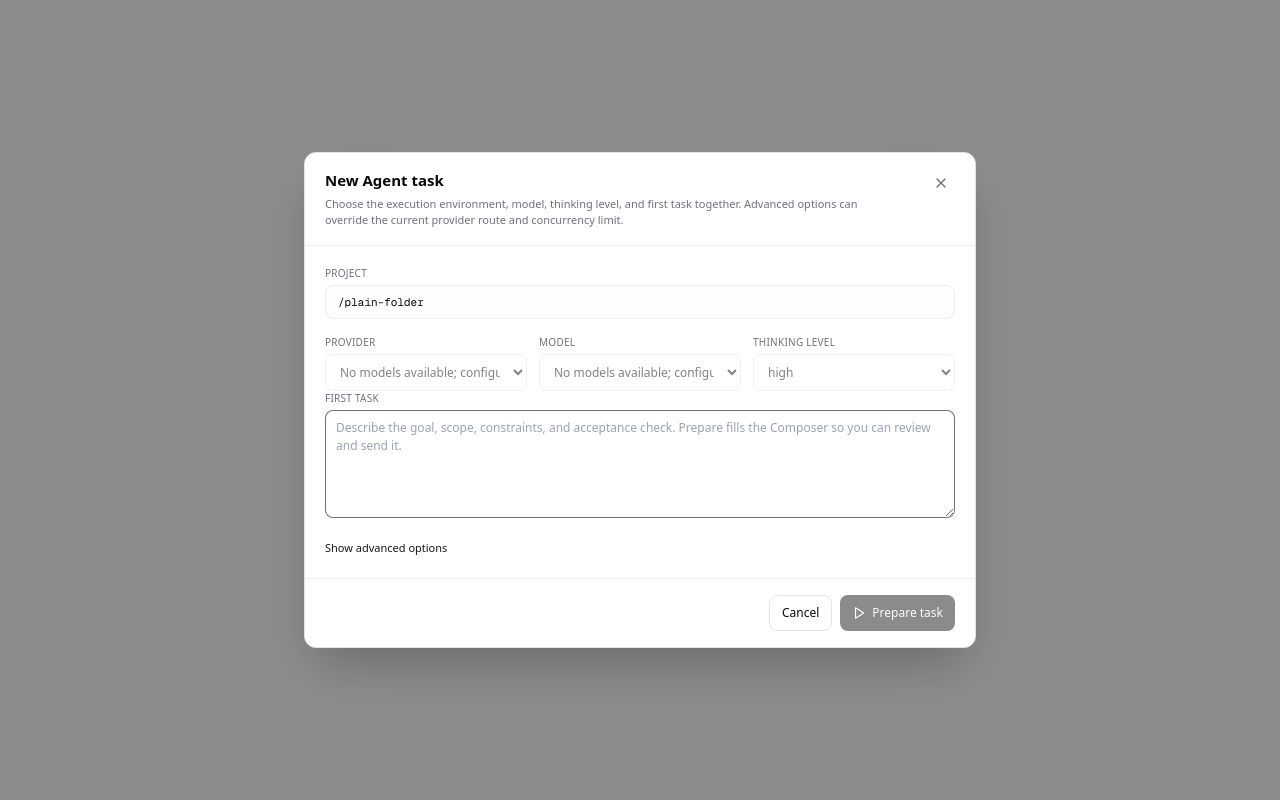
Test: NewTaskDialog › disables Worktree when the project is not a Git repository
What coordinates should you click on to do the following:
click the button "Show advanced options"
I would click on:
 (386, 548)
Its box is [325,540,447,556].
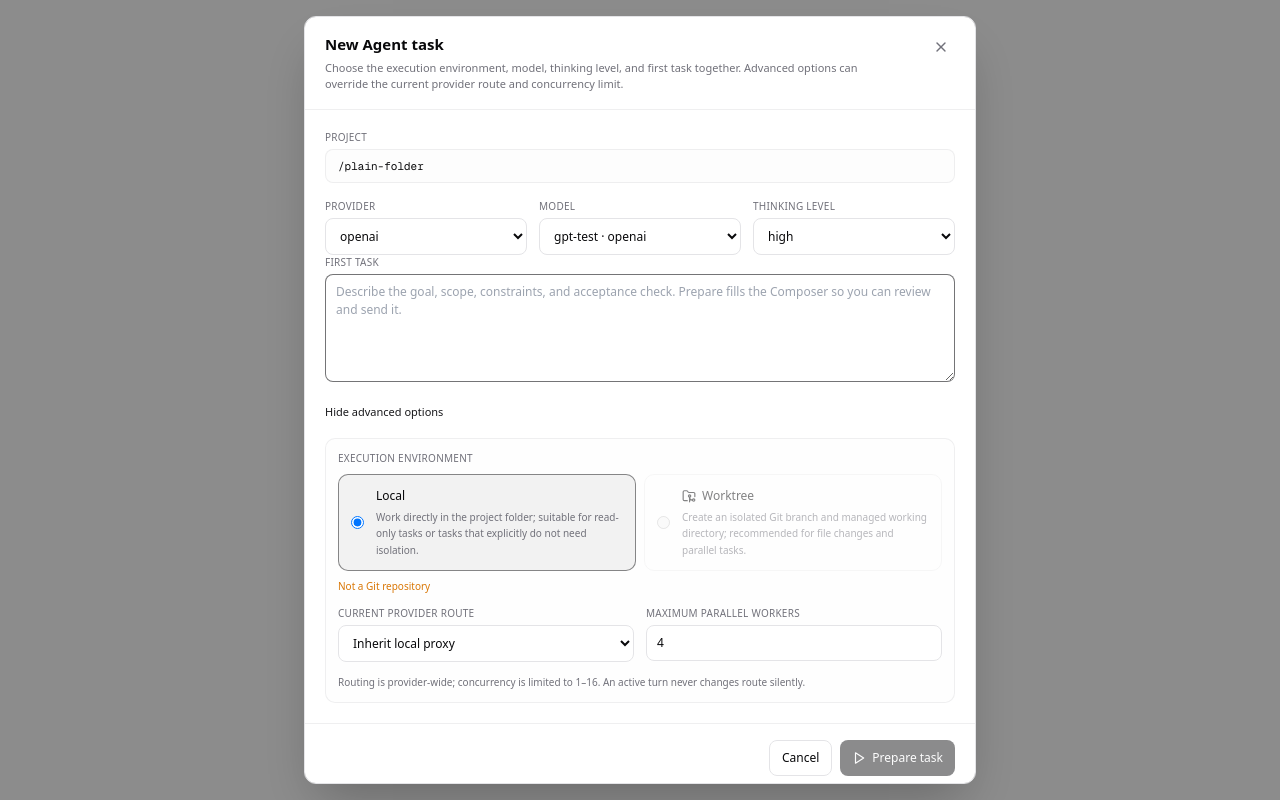
Check: the text "Not a Git repository" is shown, box [338,579,430,593]
Check: the radio button labelled "Local" is checked, box [351,487,364,558]
